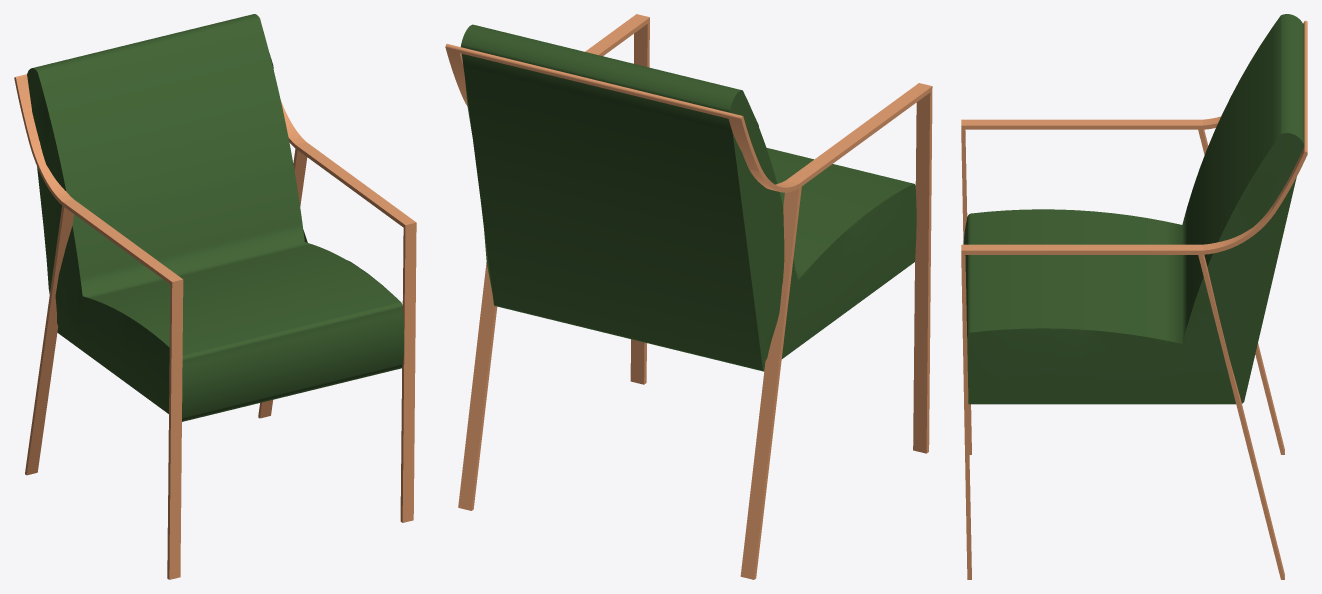
Rendered from Sillla-2.fbx.
3 renders of one model, left to right at view 1: azimuth 30°, elevation 25°; view 2: azimuth 150°, elevation 25°; view 3: azimuth 270°, elevation 25°, orthographic. The views are drawn at different scales.
Parts seen in each view (by area): view 1: Sillla-2; view 2: Sillla-2; view 3: Sillla-2.
Boxes of the visible parts, bbox=[...] form: Sillla-2: bbox=[14, 14, 416, 579]; Sillla-2: bbox=[445, 14, 932, 579]; Sillla-2: bbox=[961, 14, 1307, 579].
Bounding box in the file's own units: 61.05 × 95.86 × 68.29.
